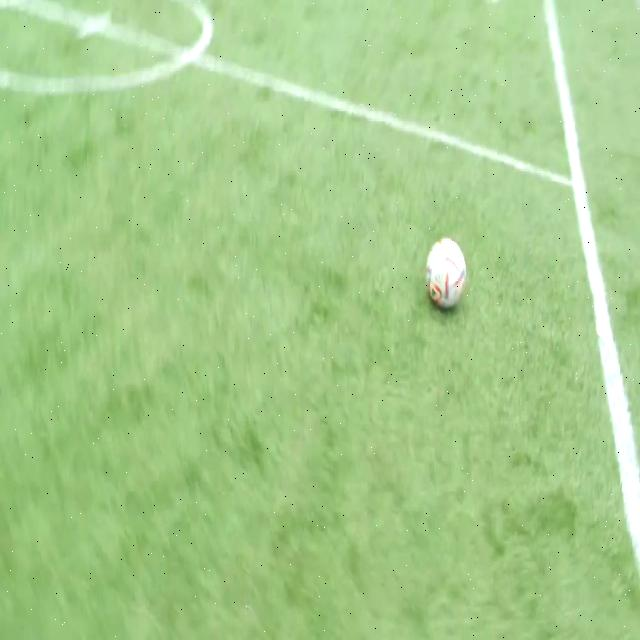ball: (425, 237, 467, 307)
